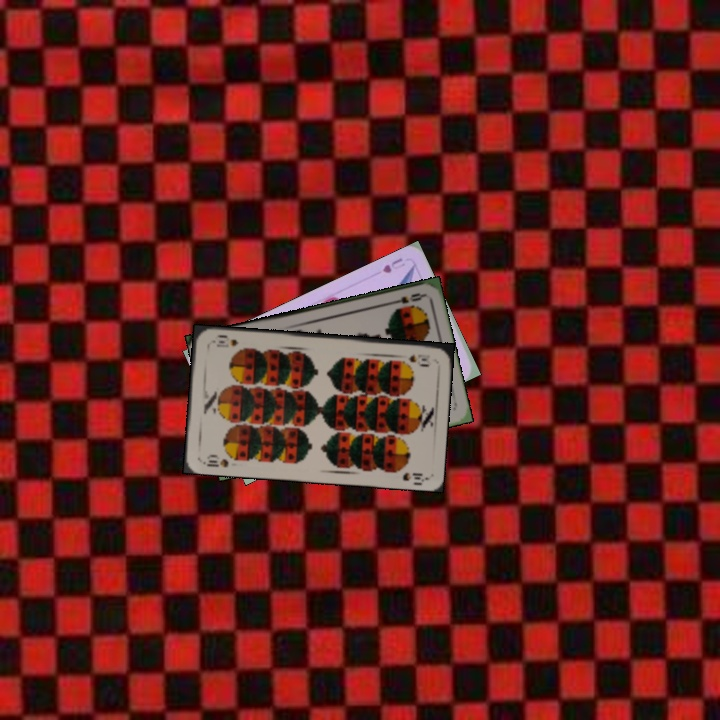HU: (378, 254, 408, 276)
S10: (199, 450, 231, 470), (404, 349, 432, 364)
SO: (386, 289, 427, 307)
